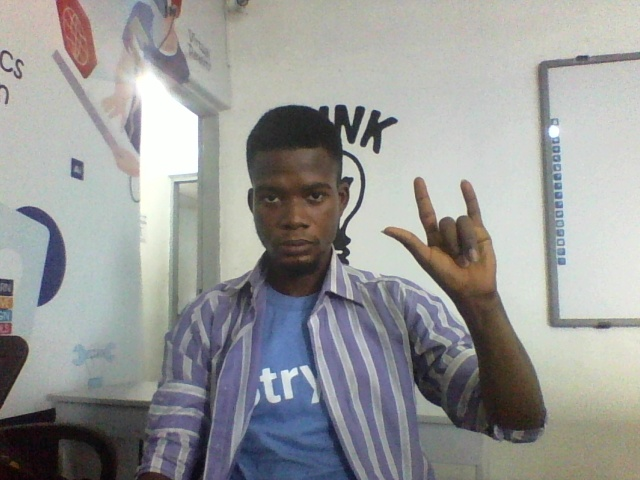i_love_you: (379, 176, 516, 306)
